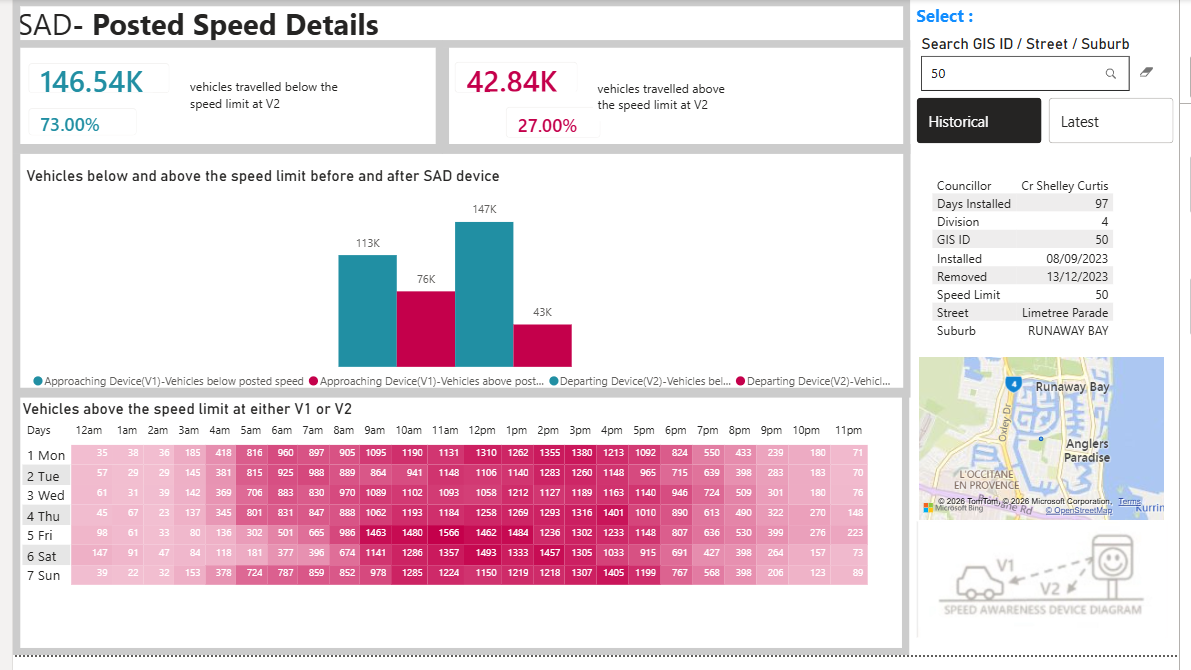

What the dashboard file says about the page in this screenshot:
{"tool":"powerbi","page":{"name":"Page 3","canvas":[1280,720],"ordinal":2},"visuals":[{"type":"textbox","box":[0,0,551.5,52.6],"z":0},{"type":"pivotTable","title":"Vehicles above the speed limit at either V1 or V2","fields":{"Columns":["HOURLY_DEPLOYMENT_SUMMARY.Hour Label"],"Values":["HOURLY_DEPLOYMENT_SUMMARY.Heatmap used Above Speed"],"Rows":["HOURLY_DEPLOYMENT_SUMMARY.Day Display"]},"box":[4.9,439,974.6,281.3],"z":1000},{"type":"cardVisual","fields":{"Data":["HOURLY_DEPLOYMENT_SUMMARY.Posted V2 Below Count"]},"box":[0,53.5,189.4,67.2],"z":2000},{"type":"cardVisual","fields":{"Data":["HOURLY_DEPLOYMENT_SUMMARY.Posted V2 Below %"]},"box":[0,102.5,153,64.2],"z":3000},{"type":"cardVisual","fields":{"Data":["HOURLY_DEPLOYMENT_SUMMARY.Posted V2 Above Count"]},"box":[467.3,51.9,169.4,68.3],"z":4000},{"type":"cardVisual","fields":{"Data":["HOURLY_DEPLOYMENT_SUMMARY.Posted V2 Above %"]},"box":[524.8,101.5,138.2,68.5],"z":5000},{"type":"textbox","box":[189.4,82.3,172.9,50.8],"z":6000},{"type":"textbox","box":[636.1,83.2,172.4,50.1],"z":7000},{"type":"shape","box":[472,43.9,514.6,124.9],"z":8000},{"type":"shape","box":[284,216.8,480.3,111.1],"z":9000},{"type":"shape","box":[0,0,985.1,53.3],"z":10000},{"type":"clusteredColumnChart","title":"Vehicles below and above the speed limit before and after SAD device","fields":{"Y":["Sum(HOURLY_DEPLOYMENT_SUMMARY.VEHICLES_BELOW_SPEED_LIMIT_V1)","Sum(HOURLY_DEPLOYMENT_SUMMARY.VEHICLES_OVER_SPEED_LIMIT_V1)","Sum(HOURLY_DEPLOYMENT_SUMMARY.VEHICLES_BELOW_SPEED_LIMIT_V2)","Sum(HOURLY_DEPLOYMENT_SUMMARY.VEHICLES_OVER_SPEED_LIMIT_V2)"]},"box":[9.6,184.5,970.1,254.1],"z":11000},{"type":"shape","box":[0,159.2,985.3,278.6],"z":12000},{"type":"shape","box":[0,426.8,983.9,293.7],"z":13000},{"type":"textbox","box":[986.8,0,256.8,35.5],"z":14000},{"type":"map","fields":{"Series":["SIDE_PANEL.GIS_ID"],"Y":["CURRENT_SITES.LATITUDE"],"X":["CURRENT_SITES.LONGITUDE"]},"box":[989.3,388.9,278.8,227.4],"z":15000},{"type":"textFilter25A4896A83E0487089E2B90C9AE57C8A","title":"Search GIS ID / Street / Suburb","fields":{"field":["SIDE_PANEL.Search Filter"]},"box":[991.7,37.9,276.4,73.4],"z":16000},{"type":"pivotTable","fields":{"Rows":["Panel Rows.Label"],"Values":["Panel Rows.Panel Value"]},"box":[1004.5,160.5,275.8,227.8],"z":17000},{"type":"image","box":[991.7,573.5,276.4,127.2],"z":18000},{"type":"advancedSlicerVisual","fields":{"Values":["SIDE_PANEL.PERIOD_TYPE"]},"box":[991.7,108.8,284.9,50.1],"z":19000}]}

Visuals, with their boxes in screenshot pixels (x1, y1, x2, y2), scaled from the page's 1280x720 canvas onto the 1191x670 screenshot:
textbox: BBox(0, 0, 513, 49)
"Vehicles above the speed limit at either V1 or V2" pivotTable: BBox(5, 409, 911, 669)
cardVisual - HOURLY_DEPLOYMENT_SUMMARY.Posted V2 Below Count: BBox(0, 50, 176, 112)
cardVisual - HOURLY_DEPLOYMENT_SUMMARY.Posted V2 Below %: BBox(0, 95, 142, 155)
cardVisual - HOURLY_DEPLOYMENT_SUMMARY.Posted V2 Above Count: BBox(435, 48, 592, 112)
cardVisual - HOURLY_DEPLOYMENT_SUMMARY.Posted V2 Above %: BBox(488, 94, 617, 158)
textbox: BBox(176, 77, 337, 124)
textbox: BBox(592, 77, 752, 124)
shape: BBox(439, 41, 918, 157)
shape: BBox(264, 202, 711, 305)
shape: BBox(0, 0, 917, 50)
"Vehicles below and above the speed limit before and after SAD device" clusteredColumnChart: BBox(9, 172, 912, 408)
shape: BBox(0, 148, 917, 407)
shape: BBox(0, 397, 915, 669)
textbox: BBox(918, 0, 1157, 33)
map - SIDE_PANEL.GIS_ID x CURRENT_SITES.LATITUDE: BBox(921, 362, 1180, 574)
"Search GIS ID / Street / Suburb" textFilter25A4896A83E0487089E2B90C9AE57C8A: BBox(923, 35, 1180, 104)
pivotTable - Panel Rows.Label x Panel Rows.Panel Value: BBox(935, 149, 1190, 361)
image: BBox(923, 534, 1180, 652)
advancedSlicerVisual - SIDE_PANEL.PERIOD_TYPE: BBox(923, 101, 1188, 148)
